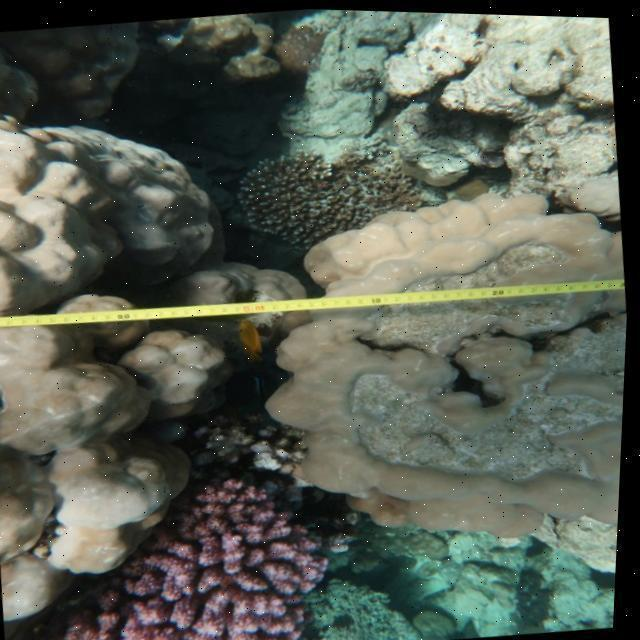Healthy Coral: (34, 457, 349, 640)
